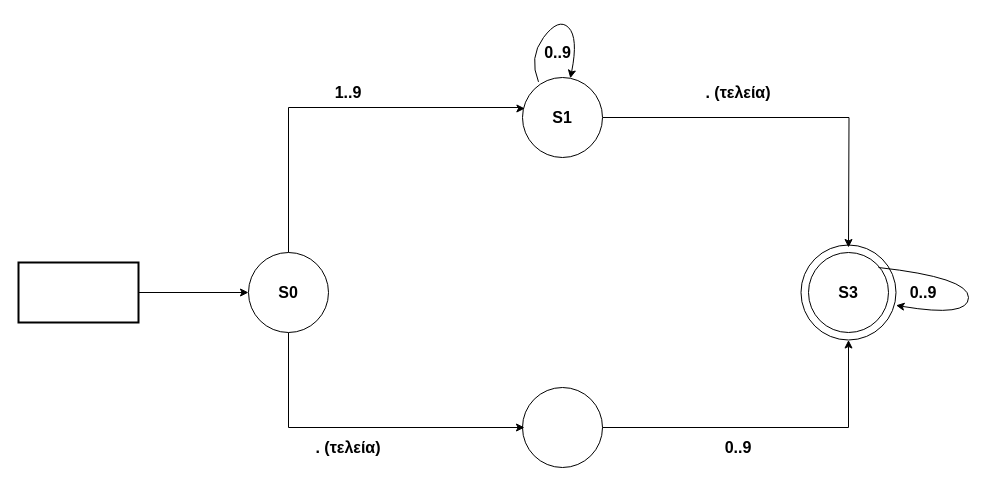
The diagram is 995 pixels wide and 499 high, and some of its shapes have lost their labels. Here are the shapes that lost their labels. From the top down, the box of each, then its label:
(17, 261, 139, 323): start
(522, 386, 602, 468): S2
